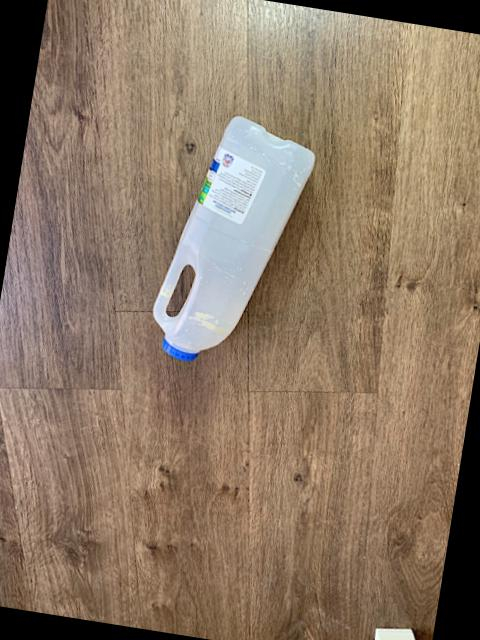plastic: (155, 119, 315, 362)
